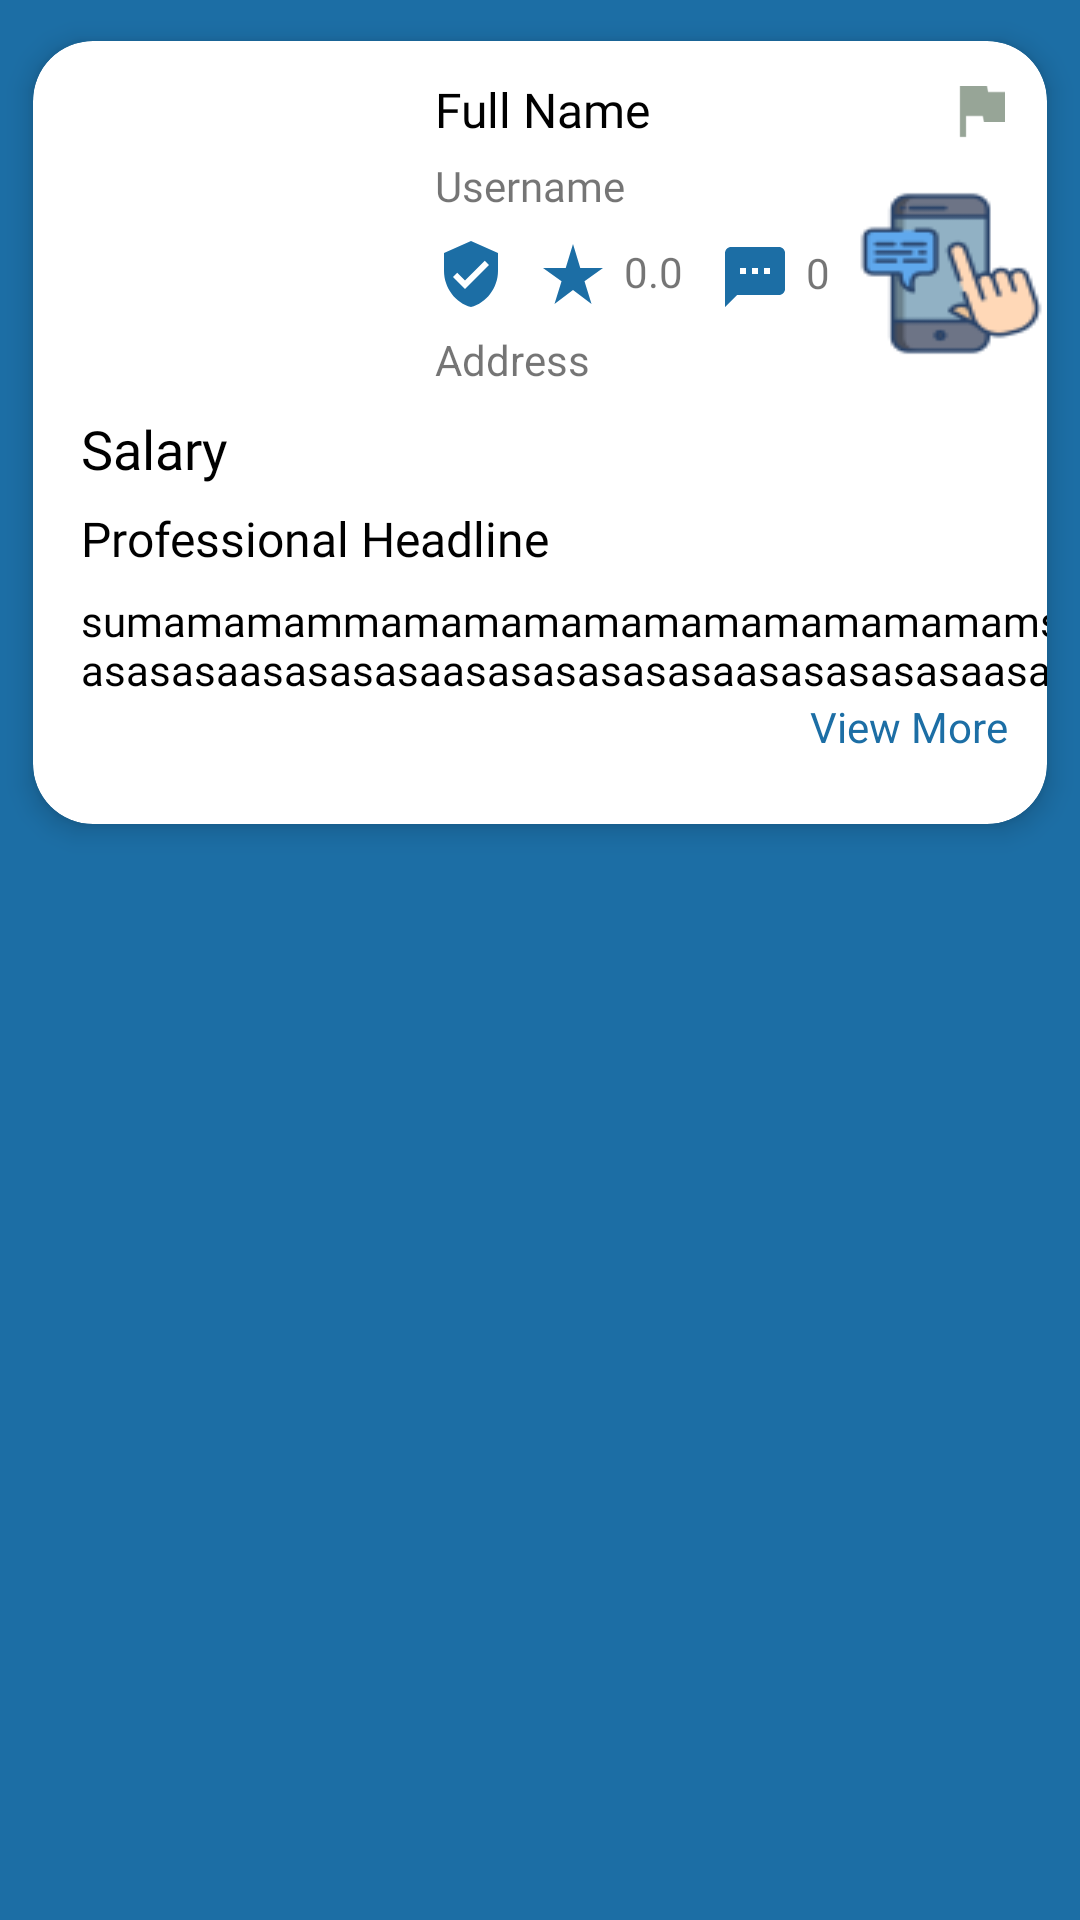

Screen size 1080w x 1920h. Icon name, then its center in pixels as (x=x, y=y):
flag: (x=982, y=111)
smartphone: (x=950, y=273)
star rate: (x=573, y=274)
textsms: (x=755, y=277)
verified user: (x=471, y=274)
